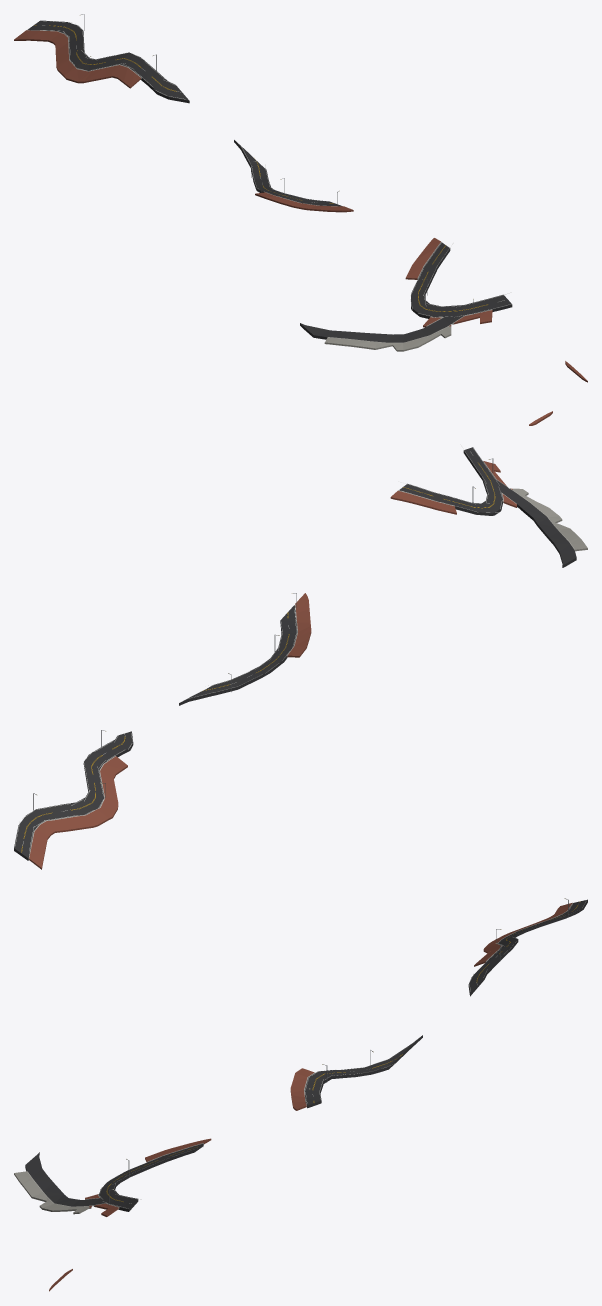
3 renders of one model, top to bottom at view 1: azimuth 30°, elevation 25°; view 2: azimuth 150°, elevation 25°; view 3: azimuth 330°, elevation 25°, orthographic. The views are drawn at different scales.
Size of the model in its own units: 74.71 by 32.54 by 442.
